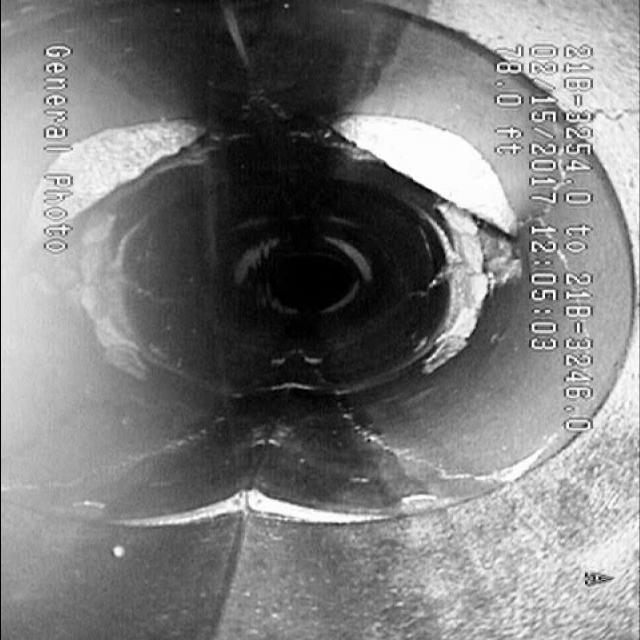Crack: (325, 408, 535, 489)
